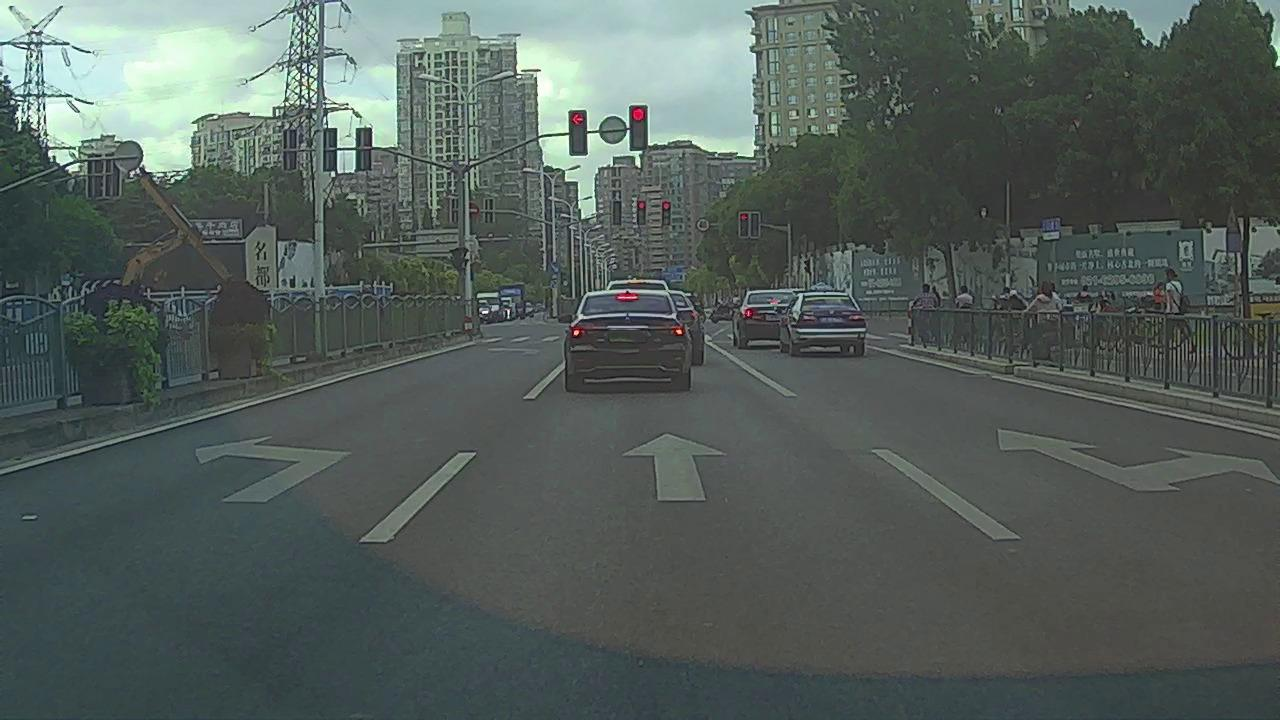traffic_light: (568, 109, 588, 155), (629, 106, 649, 152), (751, 211, 761, 238), (738, 213, 748, 236), (636, 200, 645, 225), (662, 201, 670, 225), (613, 201, 621, 224)
